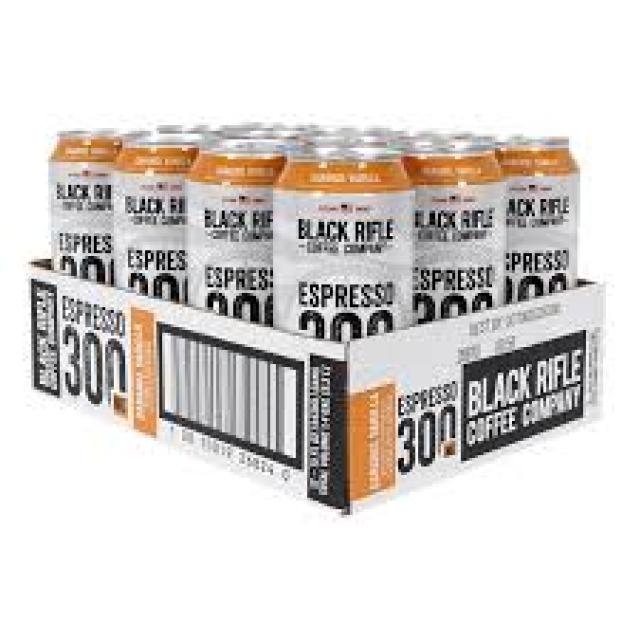Cans: (268, 139, 416, 350)
